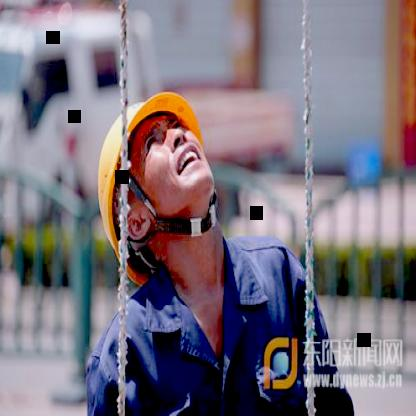helmet: (108, 74, 219, 255)
